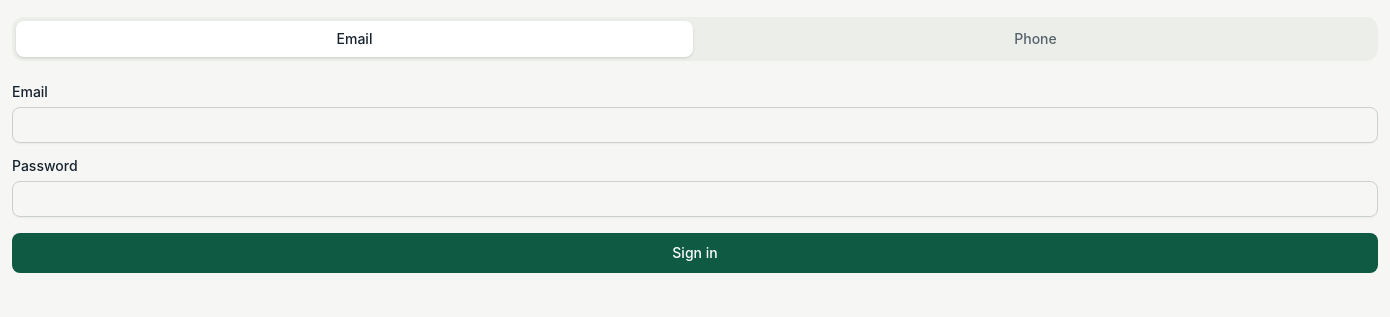
it: SignInForm: phone OTP › clears the error when switching tabs
Click the tab "Phone": x=1036, y=39 top-left (697, 21), bottom-right (1374, 57)
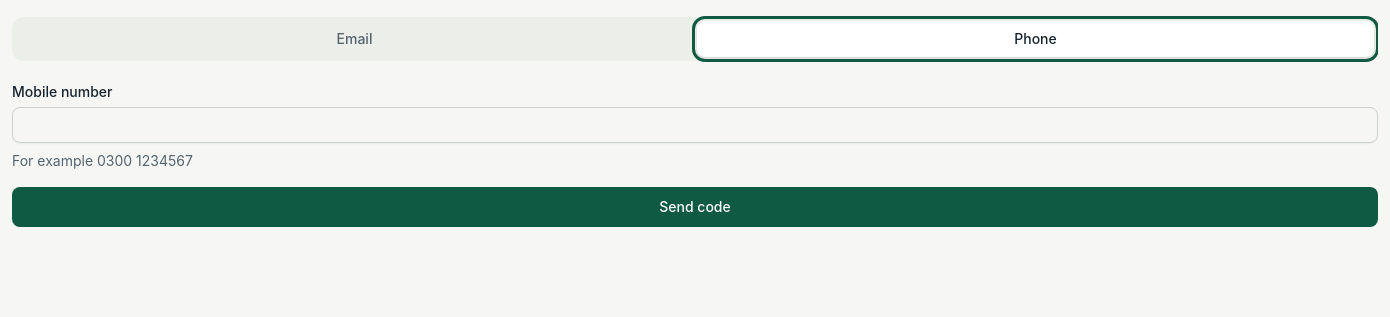
In the field labelled "Mobile number": x=695, y=125 top-left (12, 107), bottom-right (1378, 143), type "1"
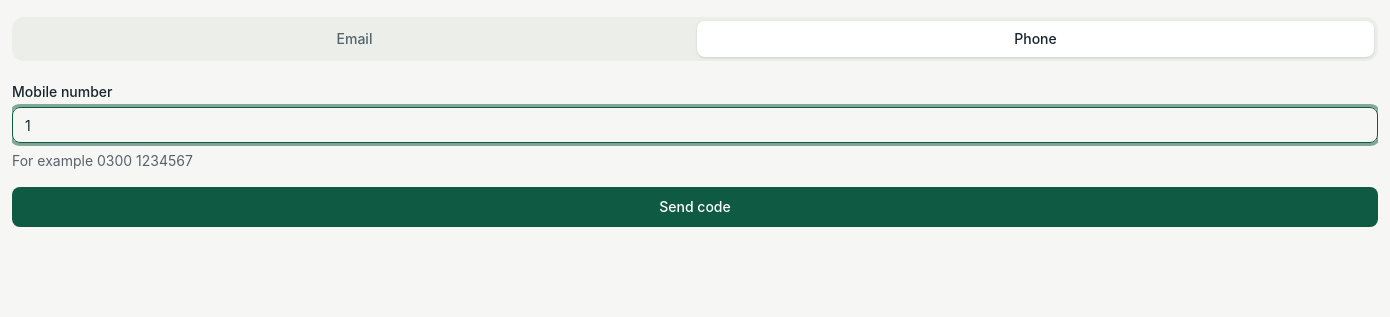
Click the button "Send code": x=695, y=207 top-left (12, 187), bottom-right (1378, 227)
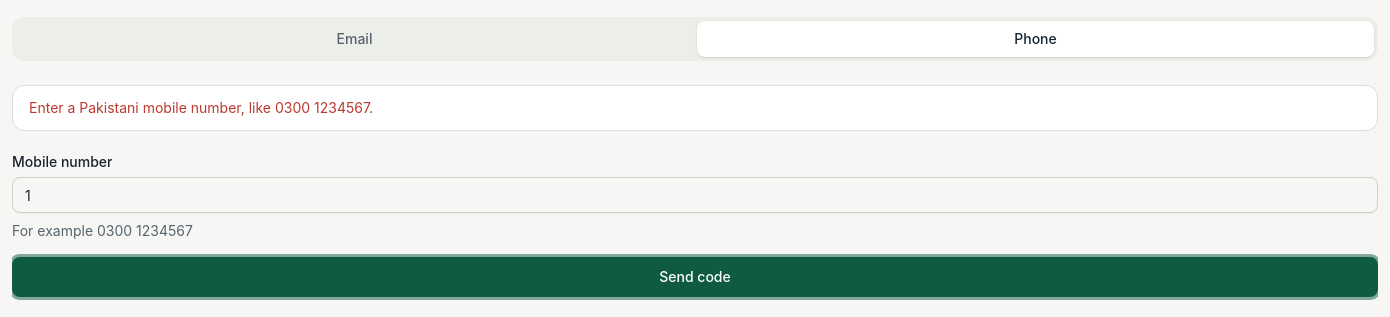
expect the message "Enter a Pakistani mobile number, like 0300 1234567." is shown: met, box top-left (12, 85), bottom-right (1378, 131)
Click the tab "Email": x=354, y=39 top-left (16, 21), bottom-right (693, 57)
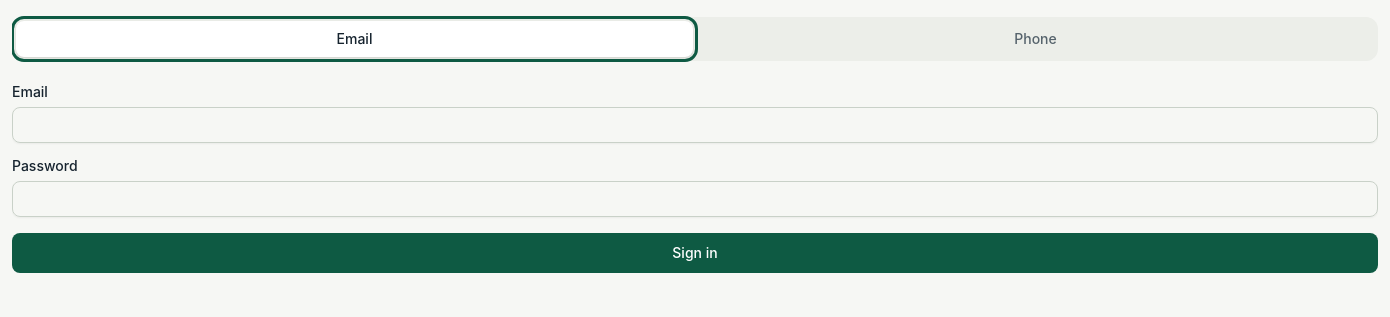
expect the message "Enter a Pakistani mobile number, like 0300 1234567." is gone: met
